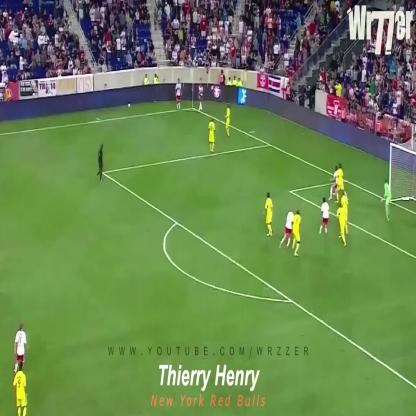corner kick: (164, 55, 211, 134)
